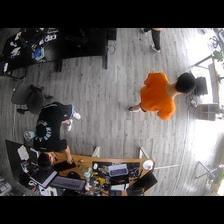normal: (127, 68, 197, 126), (30, 99, 79, 168)
